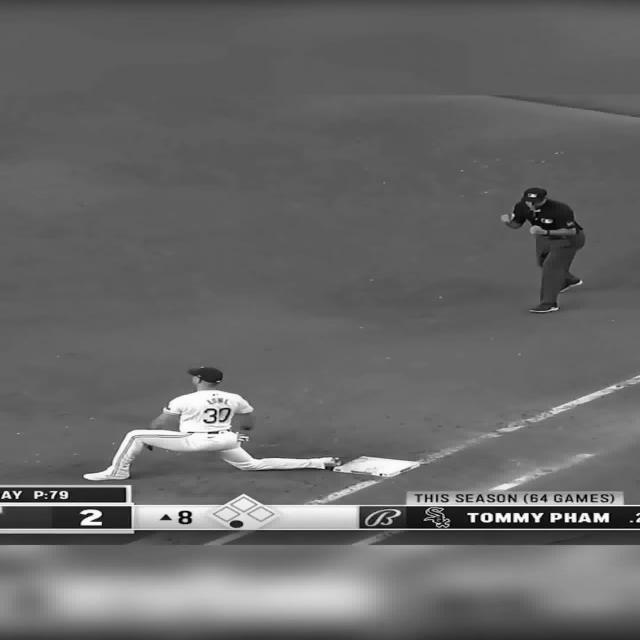base: (332, 455, 422, 478)
shoe: (82, 468, 130, 481), (558, 278, 582, 292), (528, 305, 558, 313), (321, 456, 341, 468)
